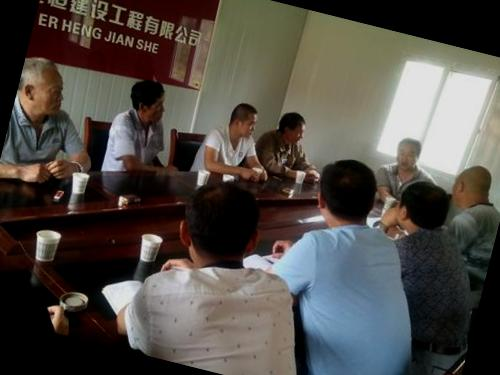no_helmet: (170, 168, 270, 275), (306, 148, 388, 236), (10, 51, 76, 128), (386, 174, 454, 244), (444, 157, 499, 221), (122, 72, 171, 127), (220, 96, 260, 147), (388, 132, 427, 173), (273, 106, 311, 148)
